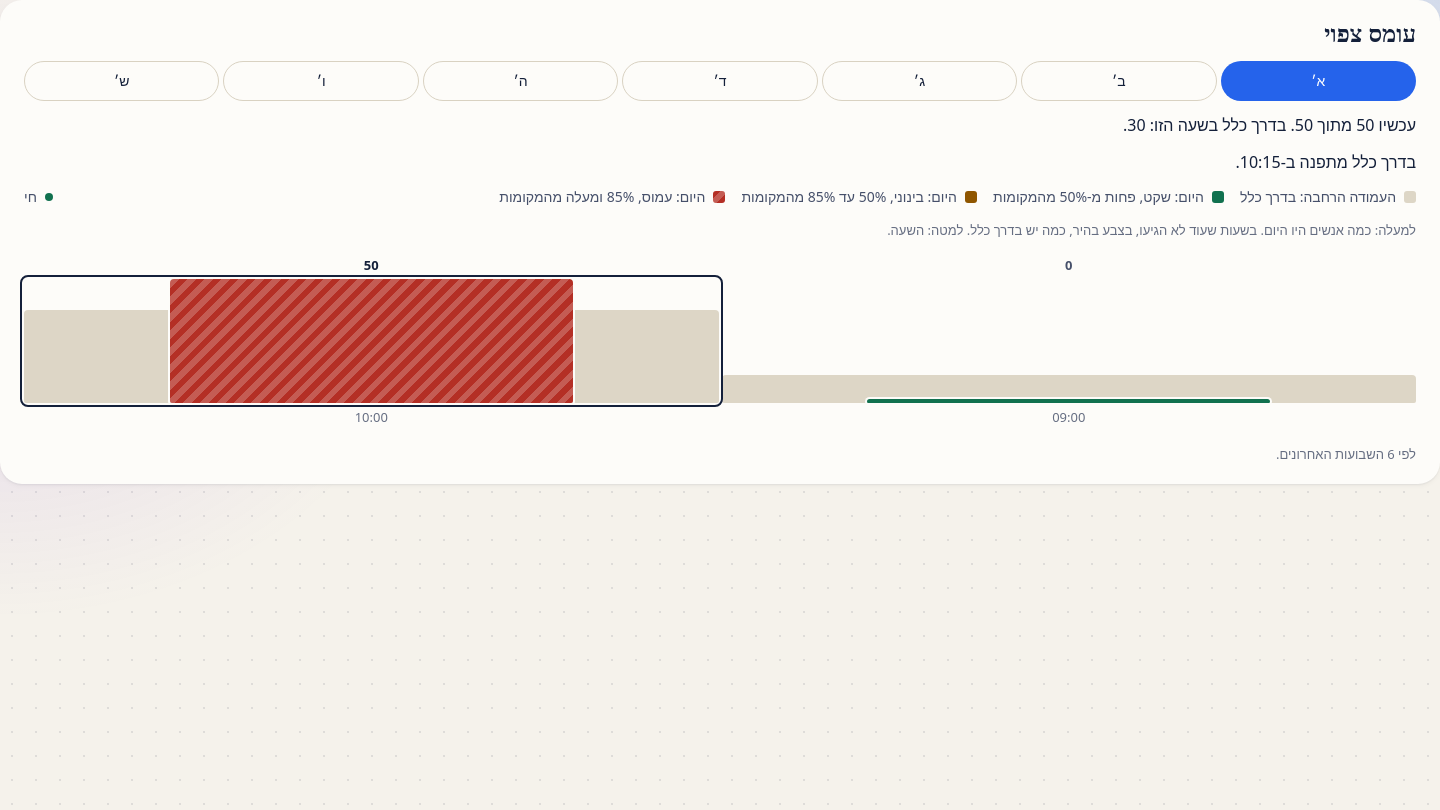
Test: PlaceForecast › another day has no "now"
Check: the text "עכשיו 50 מתוך 50. בדרך כלל בשעה הזו: 30." is shown, box [1123,114,1416,136]
Step 1. Click the button named "יום שני" → (1119, 81), box [1021,61,1217,101]
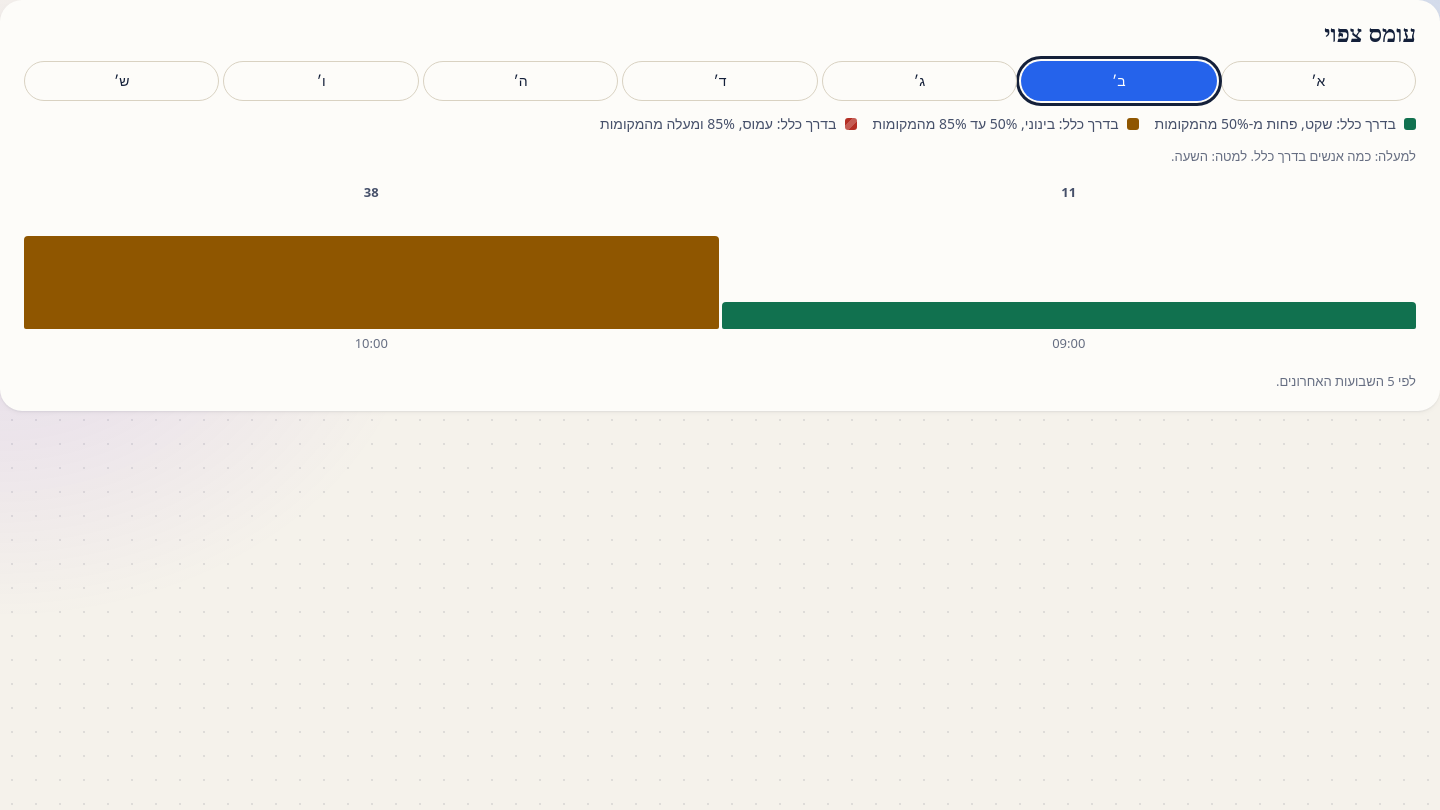
Check: the text "לפי 5 השבועות האחרונים." is shown, box [1276,372,1416,390]
Check: the text "בדרך כלל בשעה הזו" is gone
Check: the text "מתפנה" is gone
